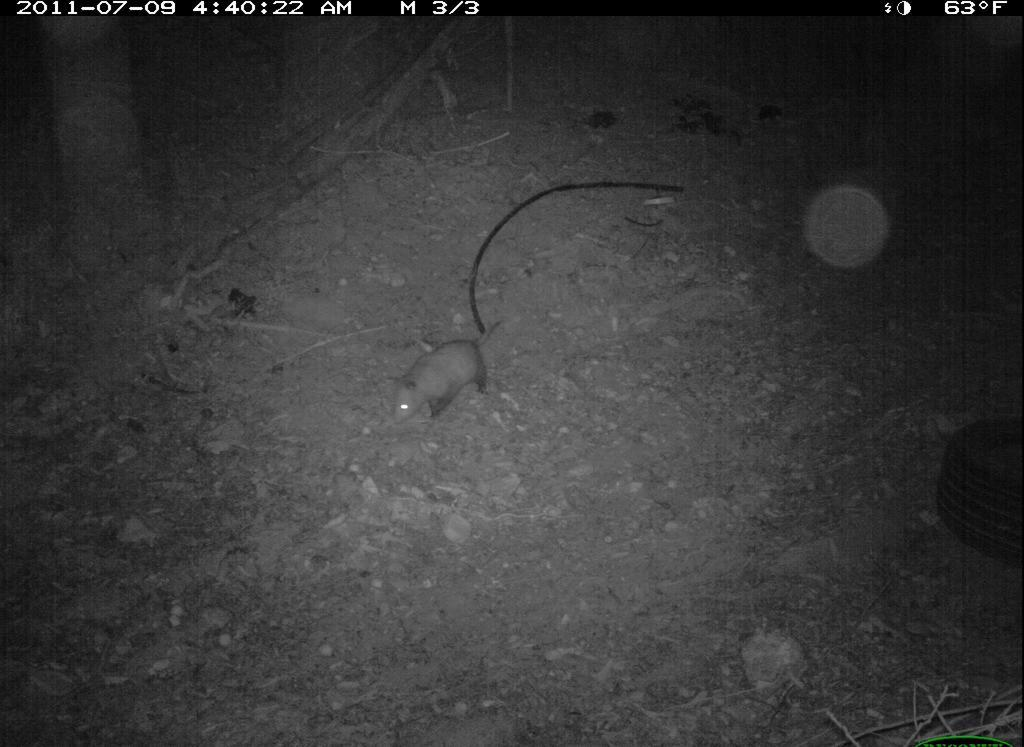opossum: (383, 326, 529, 429)
